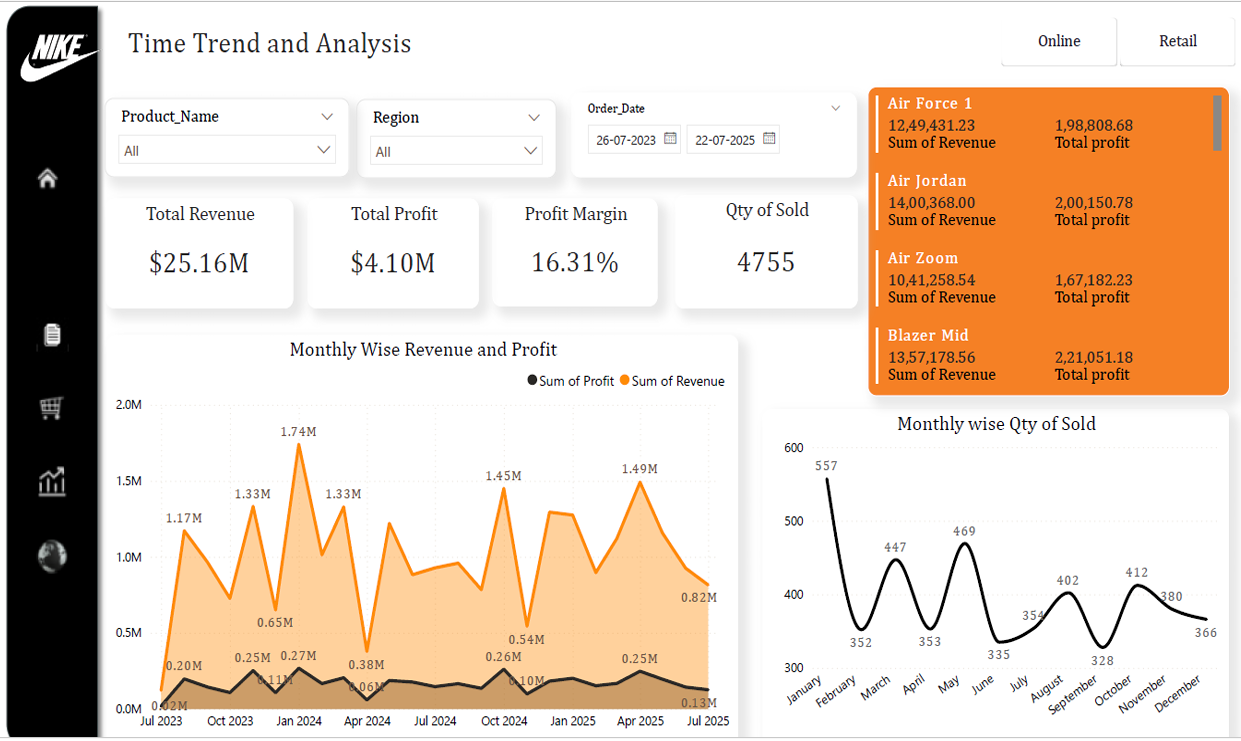

Layout of this report page (visuals, bound fields, positions):
{"tool":"powerbi","page":{"name":"Time Trend","canvas":[1280,720],"ordinal":3},"visuals":[{"type":"areaChart","title":"Monthly Wise Revenue and Profit","fields":{"Category":["nike_sales_cleaned_safe (5).Order_Date.Variation.Date Hierarchy.Year","nike_sales_cleaned_safe (5).Order_Date.Variation.Date Hierarchy.Month"],"Y":["Sum(nike_sales_cleaned_safe (5).Profit)","Sum(nike_sales_cleaned_safe (5).Revenue)"]},"box":[111.6,319.8,650,387.2],"z":0},{"type":"lineChart","title":"Monthly wise Qty of Sold","fields":{"Category":["nike_sales_cleaned_safe (5).Order_Date.Variation.Date Hierarchy.Month"],"Y":["Sum(nike_sales_cleaned_safe (5).Units_Sold)"]},"box":[787.2,389.5,480.2,317.4],"z":1000},{"type":"textbox","box":[112,8,336,77],"z":2000},{"type":"shape","box":[0,0,111.6,719.8],"z":3000},{"type":"slicer","fields":{"Values":["nike_sales_cleaned_safe (5).Order_Date"]},"box":[590.1,91,294.2,80.2],"z":3000,"group":"g1"},{"type":"actionButton","box":[36,157.3,39.6,30],"z":4000},{"type":"card","title":"Total Revenue","fields":{"Values":["Sum(nike_sales_cleaned_safe (5).Revenue)"]},"box":[110.4,190.6,193.9,104.5],"z":4000,"group":"g1"},{"type":"card","title":"Qty of Sold","fields":{"Values":["Sum(nike_sales_cleaned_safe (5).Units_Sold)"]},"box":[696.6,188.1,188.2,107],"z":5000,"group":"g1"},{"type":"actionButton","box":[36,297.7,39.5,43],"z":5000},{"type":"multiRowCard","title":"Sale Channel Info","fields":{"Values":["nike_sales_cleaned_safe (5).Product_Name","Sum(nike_sales_cleaned_safe (5).Revenue)","nike_sales_cleaned_safe (5).Total profit"]},"box":[894.6,85.3,373.4,293],"z":6000},{"type":"slicer","fields":{"Values":["nike_sales_cleaned_safe (5).Product_Name"]},"box":[109.9,95.6,252.3,75.6],"z":6000,"group":"g1"},{"type":"actionButton","box":[36,437.2,39.5,40.7],"z":7000},{"type":"card","title":"Total Profit","fields":{"Values":["Sum(nike_sales_cleaned_safe (5).Profit)"]},"box":[319.1,190.6,175.7,104.5],"z":8000,"group":"g1"},{"type":"actionButton","box":[36,510.5,39.5,38.4],"z":8000},{"type":"card","title":"Profit Margin","fields":{"Values":["nike_sales_cleaned_safe (5).Profit Mar %"]},"box":[508.4,190.6,170.1,102],"z":9000,"group":"g1"},{"type":"actionButton","box":[37.2,369.8,39.5,38.4],"z":9000},{"type":"group","id":"g1","title":"Group 1","box":[109.9,91,775,204.2],"z":10000},{"type":"slicer","fields":{"Values":["nike_sales_cleaned_safe (5).Region"]},"box":[369.2,96.8,205.8,75.6],"z":10000,"group":"g1"},{"type":"image","box":[13.2,22.8,97.3,69.6],"z":11000},{"type":"advancedSlicerVisual","fields":{"Values":["nike_sales_cleaned_safe (5).Sales_Channel"]},"box":[1027.9,15.1,252.3,55.8],"z":12000}]}

Visuals, with their boxes on the page's 1280x720 design canvas (x1, y1, x2, y2). These are canvas units, not pixel positions in the 1241x741 screenshot, which may show the page scaled, cropped or inside an application window:
"Monthly Wise Revenue and Profit" areaChart: pyautogui.locateOnScreen(112, 320, 762, 707)
"Monthly wise Qty of Sold" lineChart: pyautogui.locateOnScreen(787, 390, 1267, 707)
textbox: pyautogui.locateOnScreen(112, 8, 448, 85)
shape: pyautogui.locateOnScreen(0, 0, 112, 720)
slicer - nike_sales_cleaned_safe (5).Order_Date: pyautogui.locateOnScreen(590, 91, 884, 171)
actionButton: pyautogui.locateOnScreen(36, 157, 76, 187)
"Total Revenue" card: pyautogui.locateOnScreen(110, 191, 304, 295)
"Qty of Sold" card: pyautogui.locateOnScreen(697, 188, 885, 295)
actionButton: pyautogui.locateOnScreen(36, 298, 76, 341)
"Sale Channel Info" multiRowCard: pyautogui.locateOnScreen(895, 85, 1268, 378)
slicer - nike_sales_cleaned_safe (5).Product_Name: pyautogui.locateOnScreen(110, 96, 362, 171)
actionButton: pyautogui.locateOnScreen(36, 437, 76, 478)
"Total Profit" card: pyautogui.locateOnScreen(319, 191, 495, 295)
actionButton: pyautogui.locateOnScreen(36, 510, 76, 549)
"Profit Margin" card: pyautogui.locateOnScreen(508, 191, 678, 293)
actionButton: pyautogui.locateOnScreen(37, 370, 77, 408)
"Group 1" group: pyautogui.locateOnScreen(110, 91, 885, 295)
slicer - nike_sales_cleaned_safe (5).Region: pyautogui.locateOnScreen(369, 97, 575, 172)
image: pyautogui.locateOnScreen(13, 23, 110, 92)
advancedSlicerVisual - nike_sales_cleaned_safe (5).Sales_Channel: pyautogui.locateOnScreen(1028, 15, 1280, 71)
